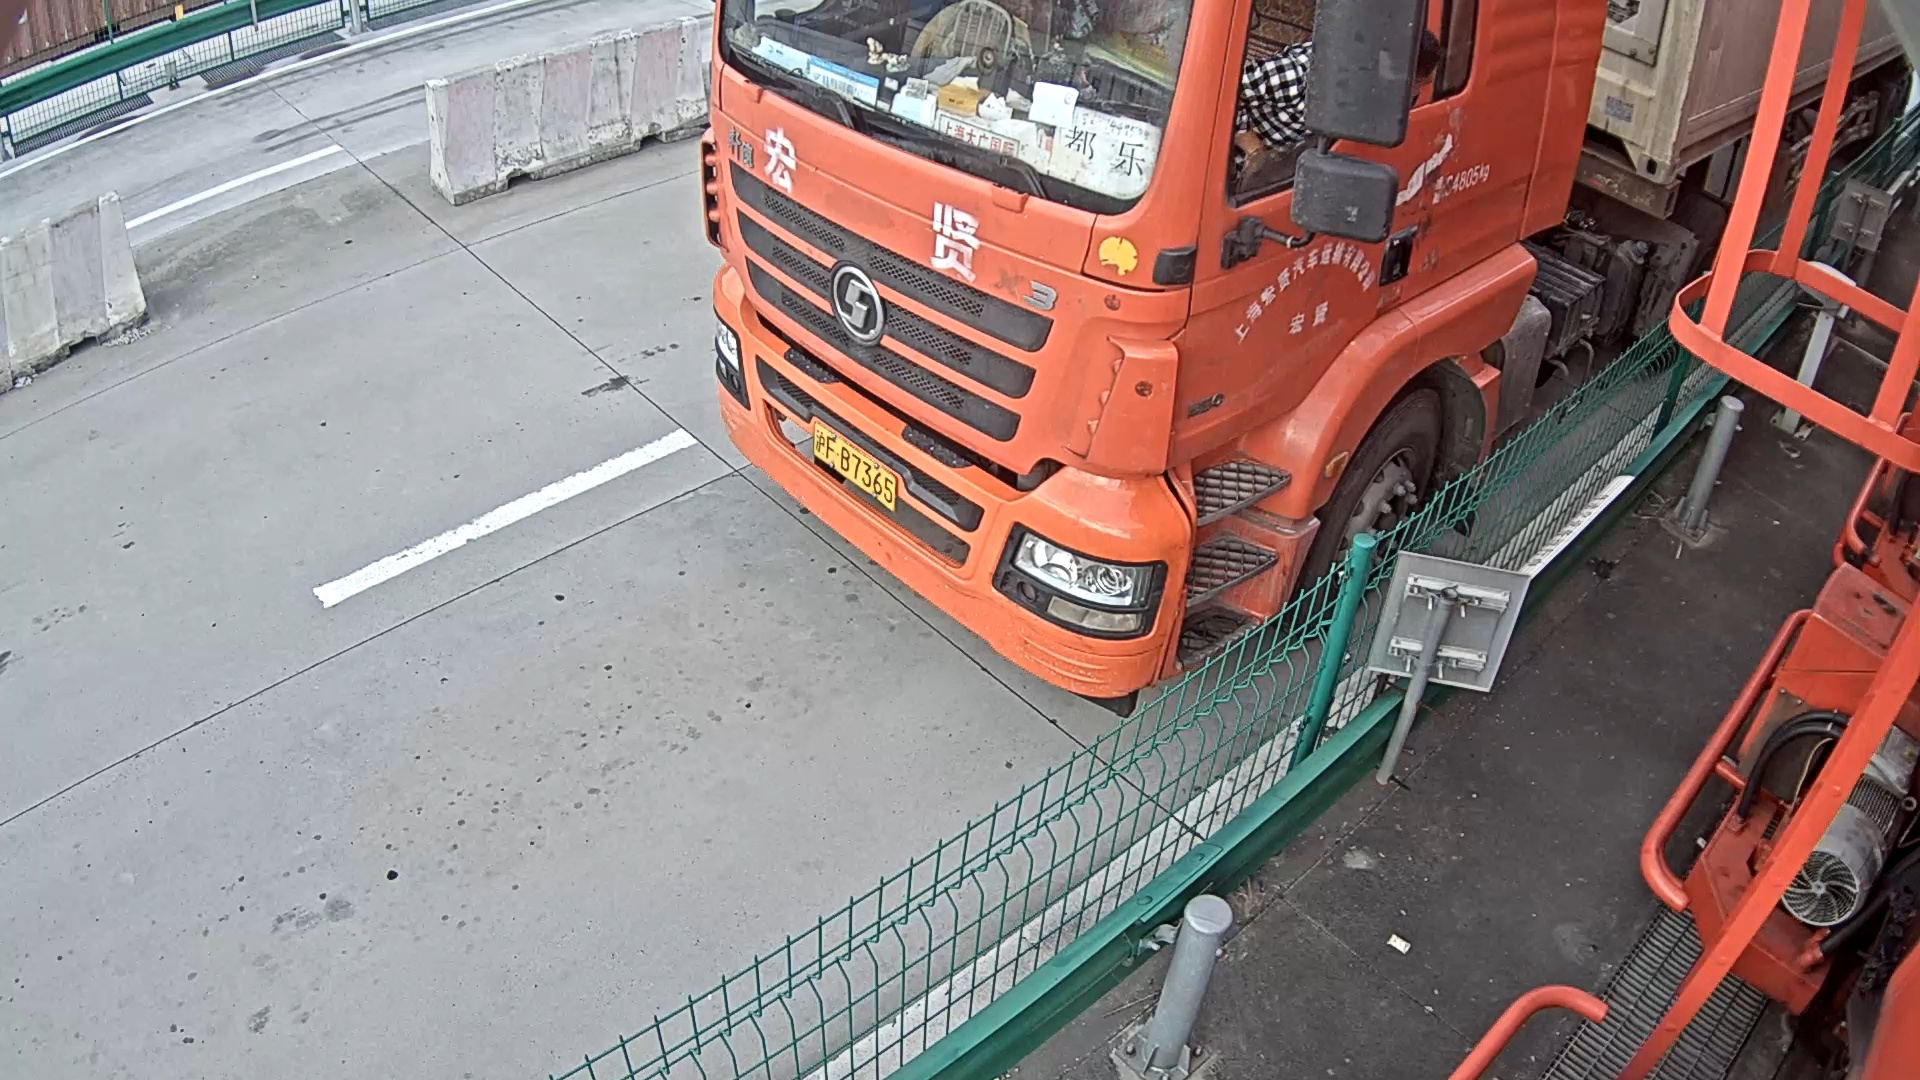head: (701, 1, 1611, 704)
plate: (810, 419, 898, 513)
